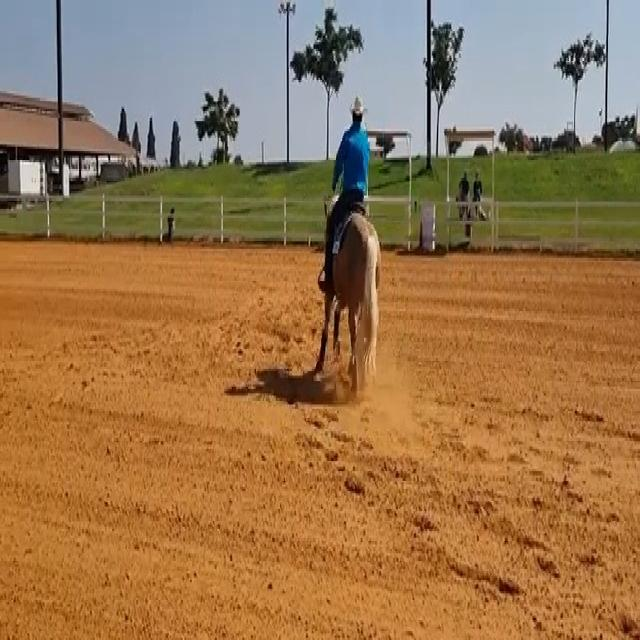horse: (313, 191, 382, 396)
